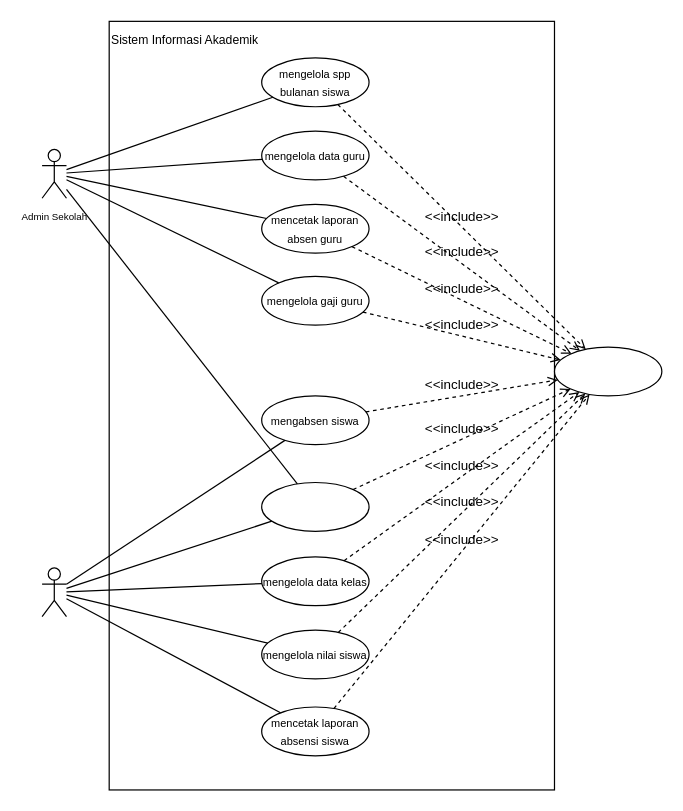
Some shapes in this 683 by 811 pixel diagram are drawn without their labels. The shapes that lost their labels are listed below. From the top down, each one's box as (x1, y1, x2, y2) in pixels, then its label:
(553, 346, 662, 396): login
(260, 481, 369, 531): mengelola data siswa
(41, 567, 66, 617): Guru
